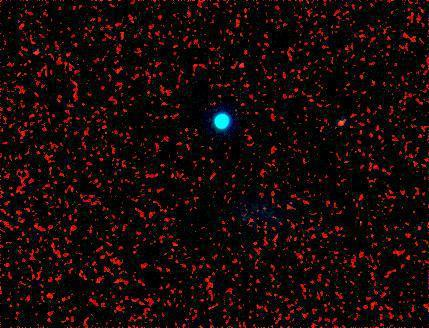star: (324, 103, 354, 133)
